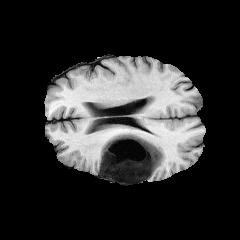glioma: (98, 128, 166, 182)
